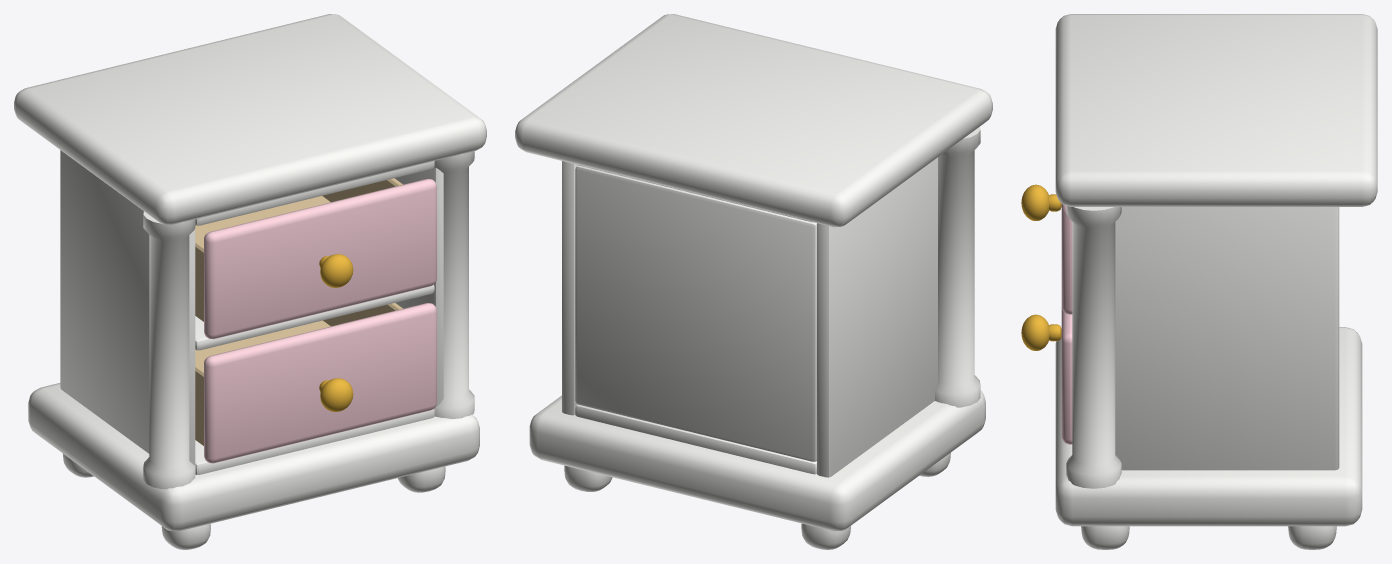
Rendered from criado_classico_branco.glb.
The picture shows the model from 3 angles, left to right: view 1: azimuth 30°, elevation 25°; view 2: azimuth 150°, elevation 25°; view 3: azimuth 270°, elevation 25°; orthographic projection. The views are drawn at different scales.
Visible parts, largest first — view 1: criado_classico_branco, gaveta_2, gaveta_1; view 2: criado_classico_branco; view 3: criado_classico_branco, gaveta_1, gaveta_2.
Part boxes in pixels (left/top/right/bottom): criado_classico_branco: left=14, top=14, right=486, bottom=549; gaveta_2: left=195, top=178, right=436, bottom=339; gaveta_1: left=195, top=303, right=436, bottom=463; criado_classico_branco: left=515, top=14, right=992, bottom=549; criado_classico_branco: left=1055, top=14, right=1377, bottom=549; gaveta_1: left=1021, top=307, right=1072, bottom=444; gaveta_2: left=1021, top=184, right=1072, bottom=314.
Bounding box in the file's own units: 0.52 × 0.565 × 0.4646.
1 material, 1 textured.
